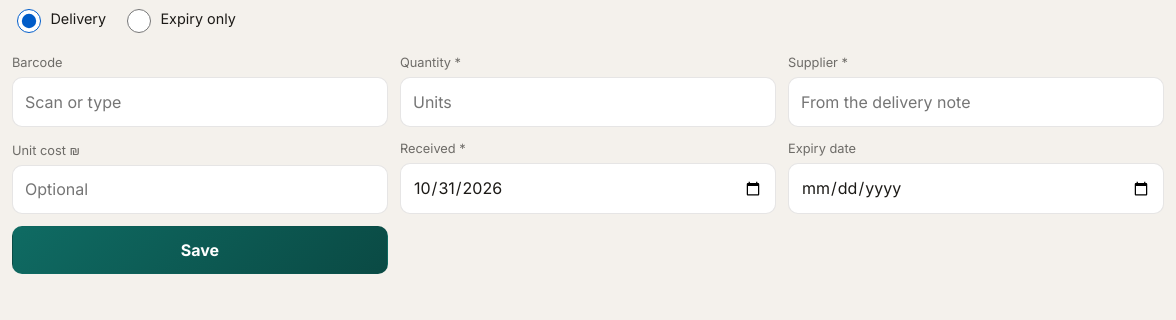
Test: ReceivingCaptureForm › shows the Hebrew product name as soon as a known barcode is entered
Step 1. Type "7290000066318" into the field labelled "Barcode" → [200, 102], box [12,77,388,127]
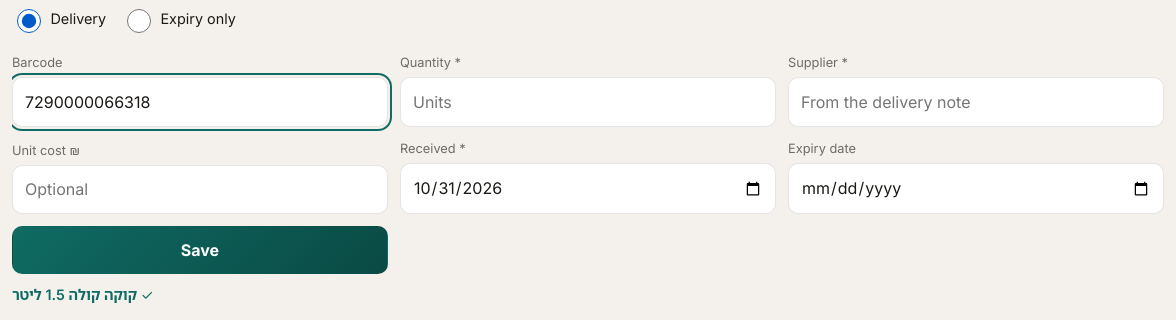
expect the text "✓ קוקה קולה 1.5 ליטר" is shown: met, box [12,286,153,303]
